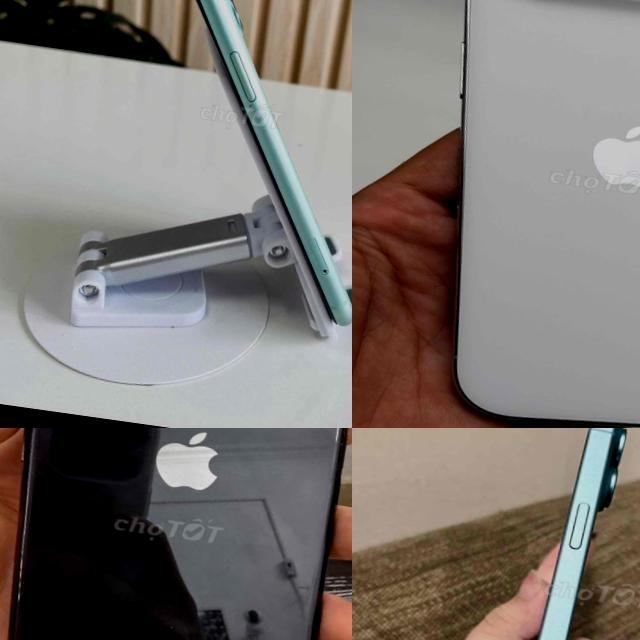gen_11: (195, 0, 352, 324)
gen_16: (460, 428, 640, 640)
gen_17: (385, 0, 640, 428)
gen_x_xs: (0, 428, 352, 640)
scratch: (157, 604, 184, 640)
